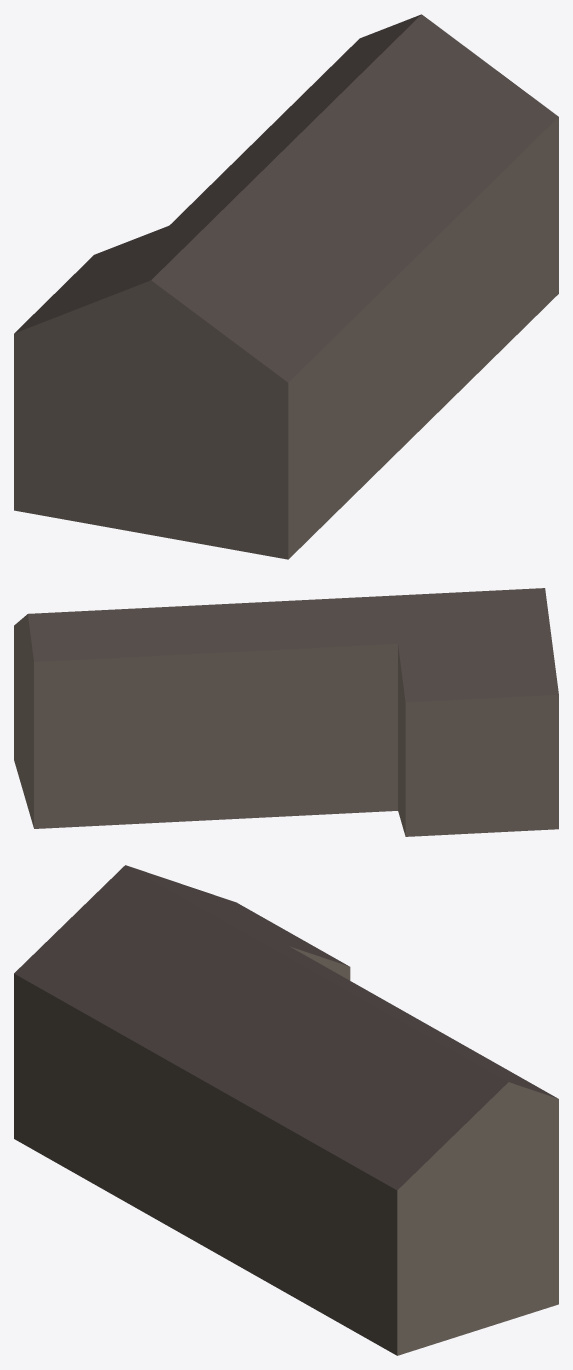
The picture shows the model from 3 angles, top to bottom: view 1: azimuth 30°, elevation 25°; view 2: azimuth 150°, elevation 25°; view 3: azimuth 270°, elevation 25°; orthographic projection. The views are drawn at different scales.
Parts seen in each view (by area): view 1: HP-w1435294177; view 2: HP-w1435294177; view 3: HP-w1435294177.
Boxes of the visible parts, x1,y1,x2,y2 form: HP-w1435294177: (14, 14, 558, 559); HP-w1435294177: (14, 588, 558, 836); HP-w1435294177: (14, 865, 558, 1355).
Bounding box in the file's own units: 33.61 × 12.97 × 26.88.
